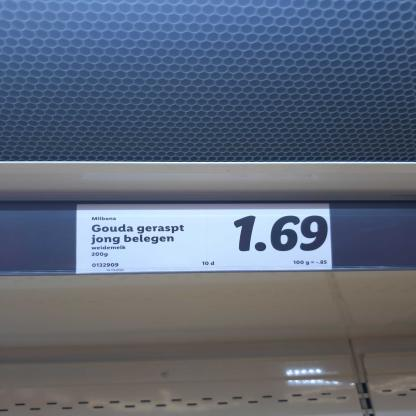prtg: (76, 204, 333, 274)
